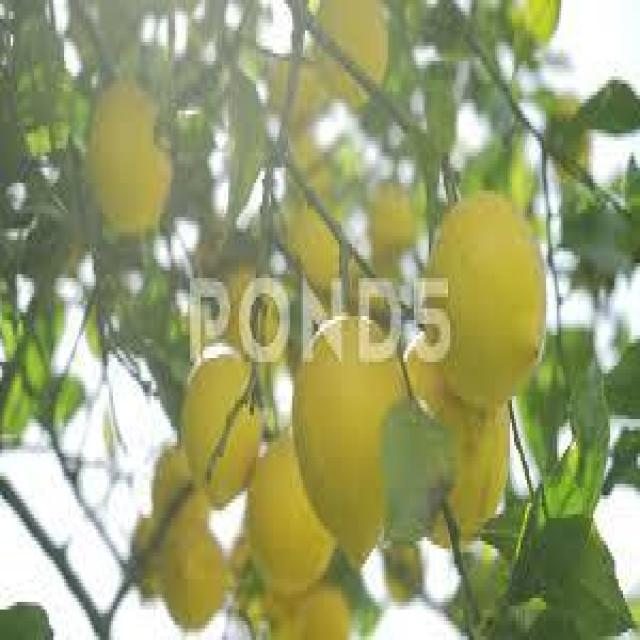fruit: (388, 326, 517, 563), (294, 317, 406, 554), (427, 192, 546, 400), (247, 434, 336, 594), (88, 77, 171, 232), (154, 497, 227, 629), (314, 0, 387, 108), (278, 186, 345, 298), (212, 258, 268, 352), (269, 52, 329, 136), (208, 418, 260, 508), (281, 102, 337, 184), (380, 533, 431, 616), (428, 363, 484, 438), (369, 179, 417, 266), (130, 515, 172, 612), (407, 335, 451, 419), (551, 96, 592, 186), (150, 444, 194, 524), (270, 298, 308, 372), (193, 220, 234, 280), (510, 1, 560, 50), (346, 252, 382, 316), (80, 292, 114, 357), (359, 280, 390, 336), (267, 54, 294, 114), (132, 507, 158, 560), (235, 568, 262, 613), (63, 241, 87, 281)
